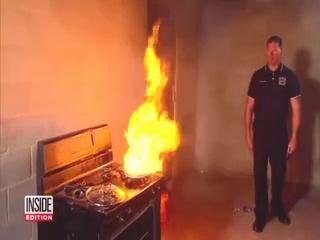Fire: (124, 15, 224, 178)
